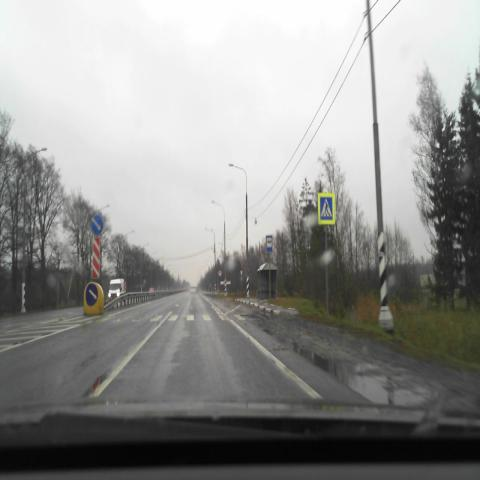4_2_1: (90, 214, 104, 237), (85, 283, 98, 306)
5_19_1: (317, 192, 335, 224)
